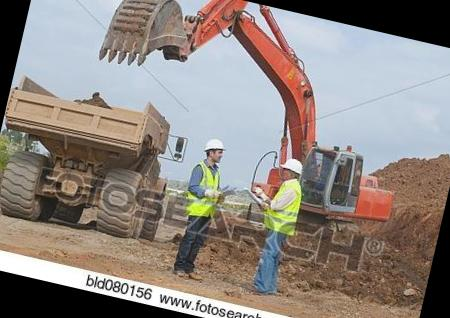Vest: (259, 173, 306, 240), (184, 160, 230, 221)
